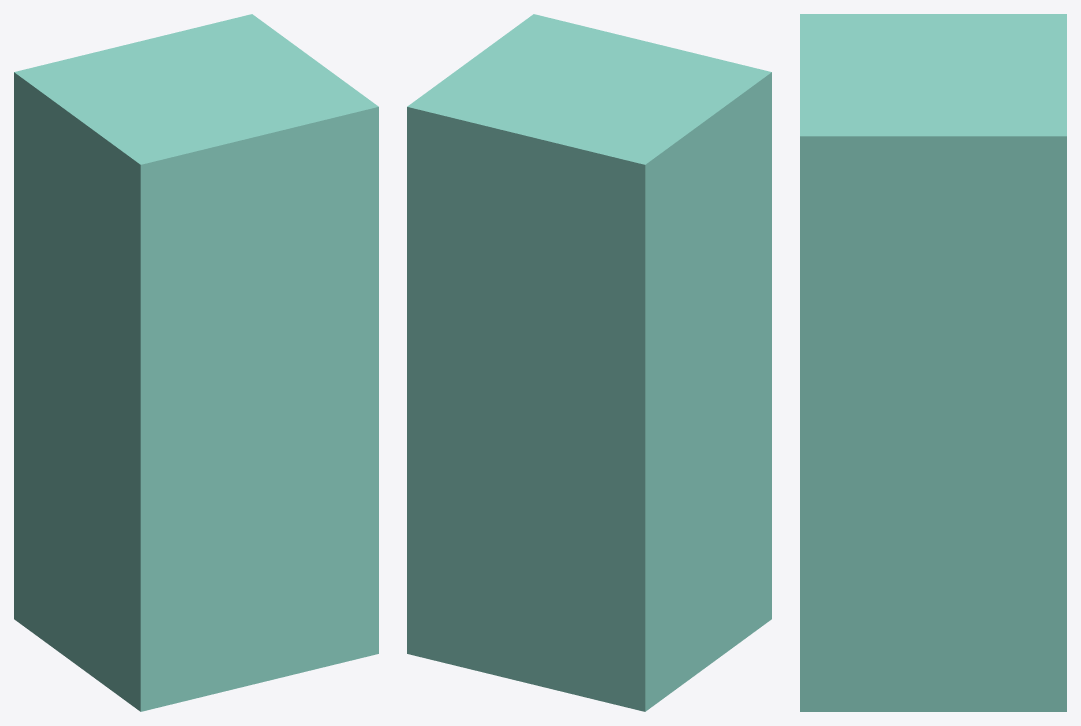
The model's file is pavement_tree.DAE.
The picture shows the model from 3 angles, left to right: view 1: azimuth 30°, elevation 25°; view 2: azimuth 150°, elevation 25°; view 3: azimuth 270°, elevation 25°; orthographic projection. The views are drawn at different scales.
Parts seen in each view (by area): view 1: bounds; view 2: bounds; view 3: bounds.
Part boxes in pixels (bbox=[...]): bounds: bbox=[14, 14, 378, 711]; bounds: bbox=[407, 14, 771, 711]; bounds: bbox=[800, 14, 1066, 711].
Size of the model in its own units: 247 by 228 by 543.
